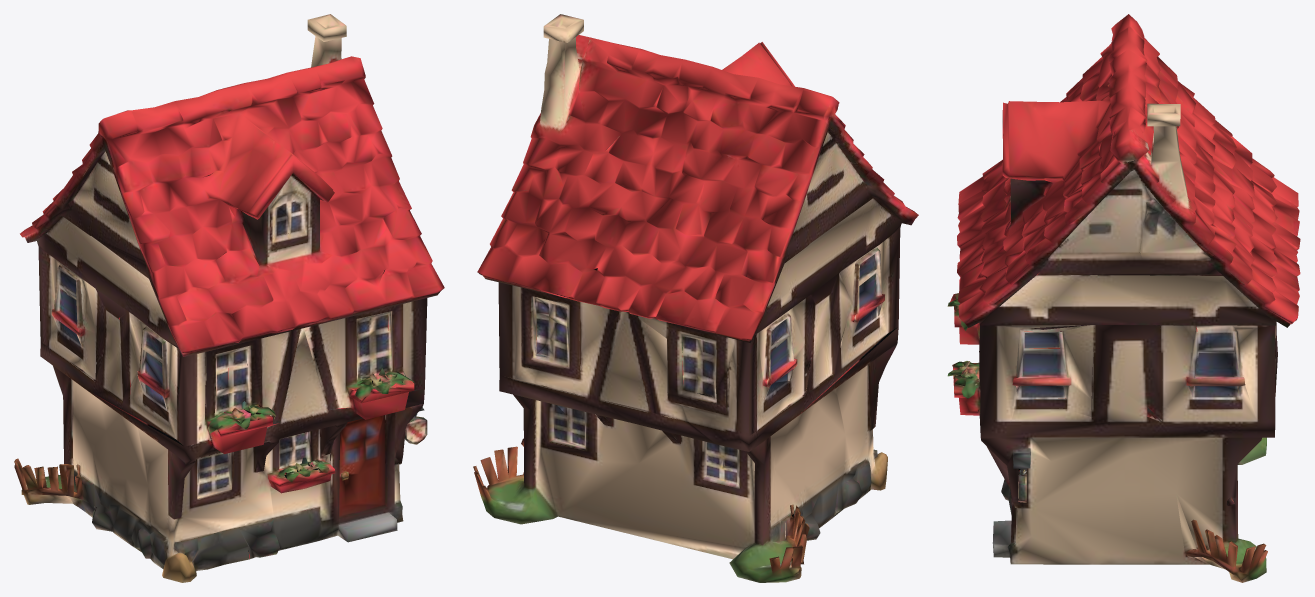
The model's file is house_terra.glb.
3 views of the same model, side by side, from view 1: azimuth 30°, elevation 25°; view 2: azimuth 150°, elevation 25°; view 3: azimuth 270°, elevation 25° (orthographic). The views are drawn at different scales.
Parts seen in each view (by area): view 1: ЦІЛЬ; view 2: ЦІЛЬ; view 3: ЦІЛЬ.
Boxes of the visible parts, x1,y1,x2,y2 form: ЦІЛЬ: (14,14,444,582); ЦІЛЬ: (473,14,918,582); ЦІЛЬ: (947,14,1300,582).
Bounding box in the file's own units: 1.57 × 2.1 × 1.48.
Materials: 1 (1 with a texture image).
